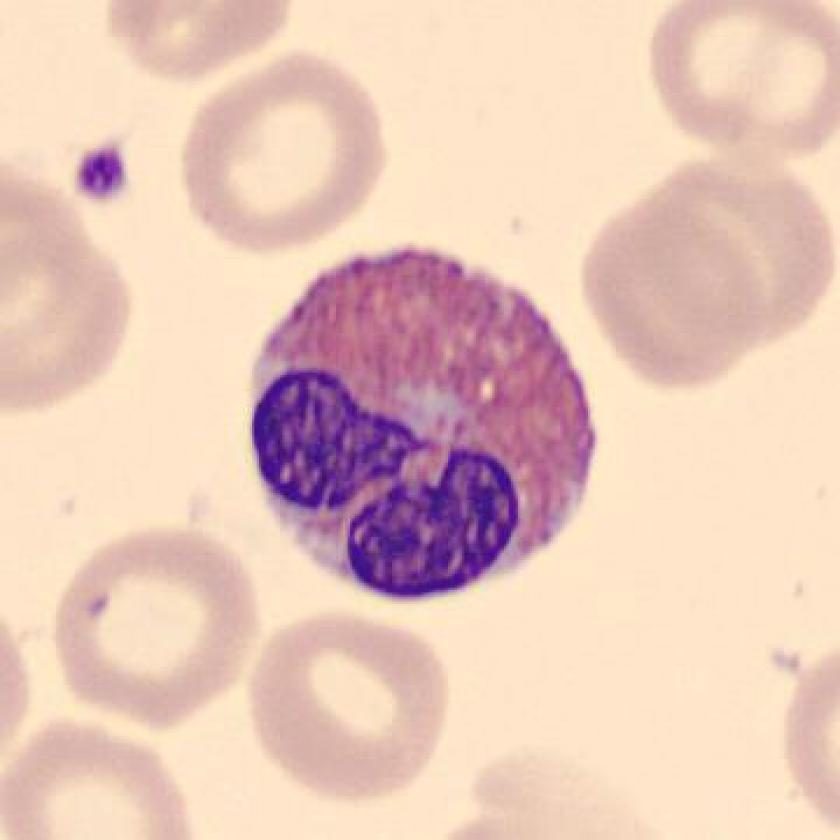eosinophil: (239, 235, 610, 612)
